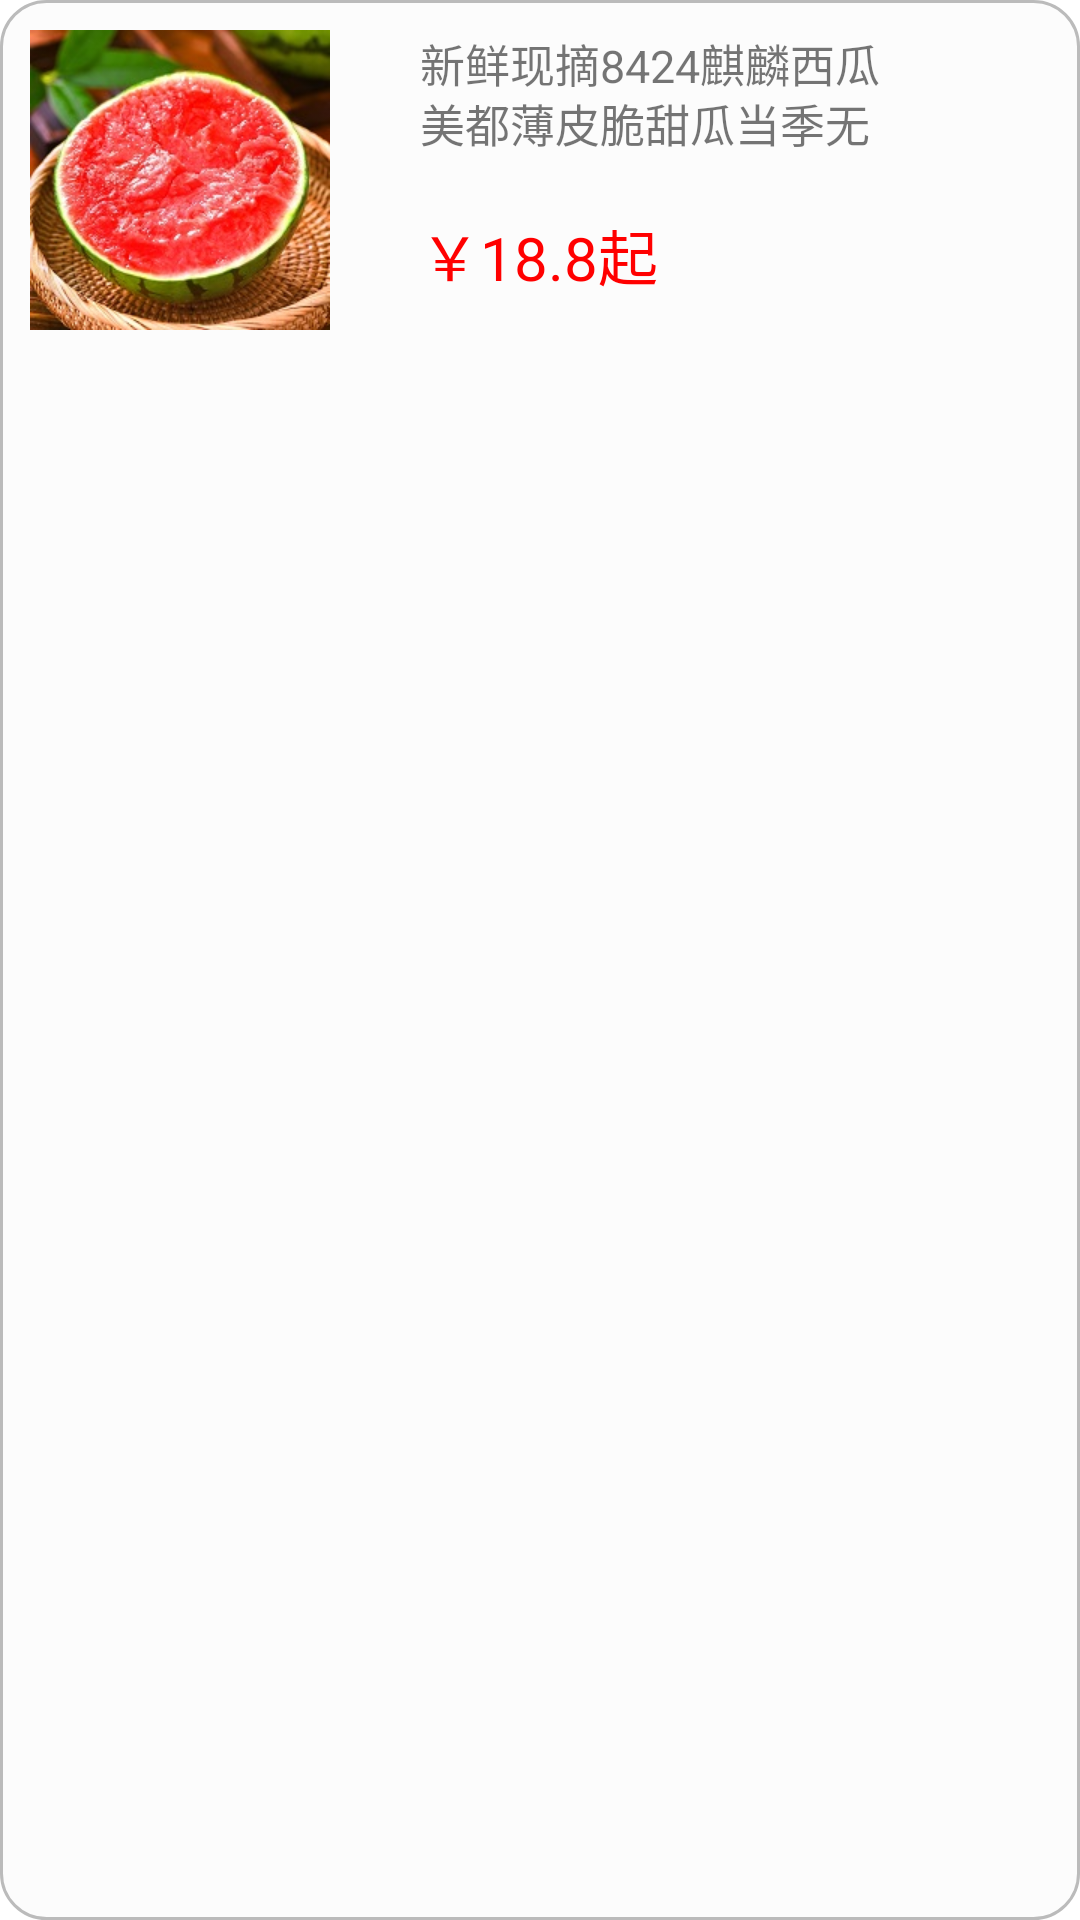

Icons on this 1080 × 1920 Android screen, each with its box as Rect(x1, y1, x2, y2):
xigua: Rect(30, 30, 330, 330)
